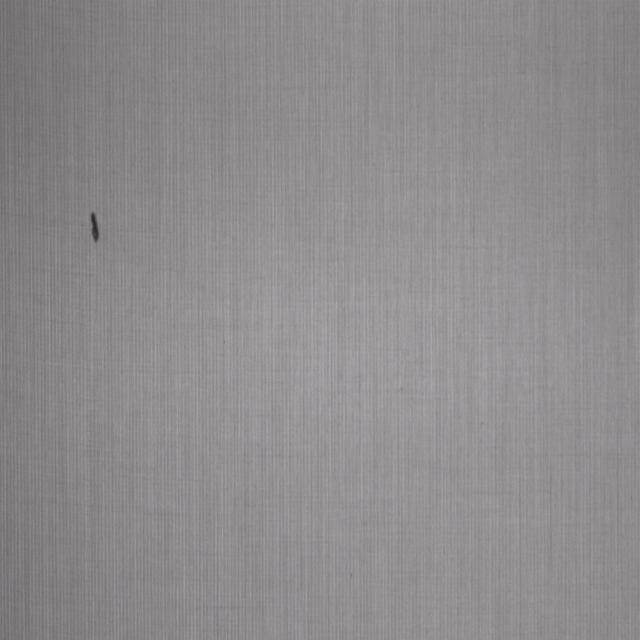dirty: (90, 210, 101, 245)
